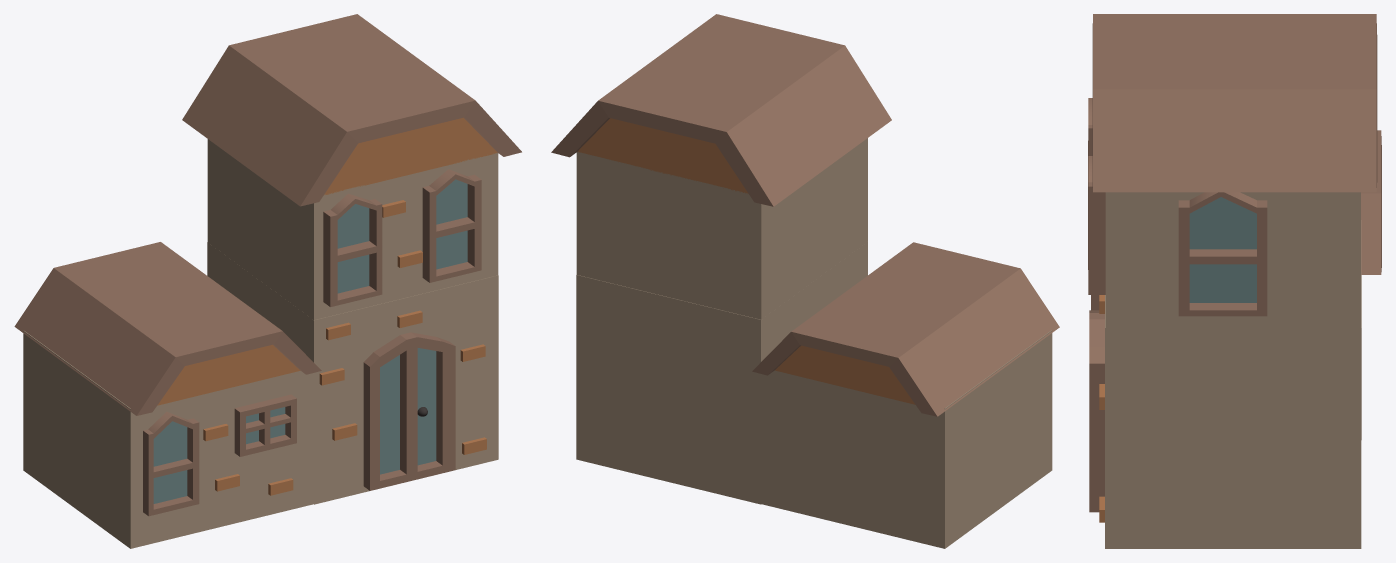
The model's file is building#3.fbx.
3 renders of one model, left to right at view 1: azimuth 30°, elevation 25°; view 2: azimuth 150°, elevation 25°; view 3: azimuth 270°, elevation 25°, orthographic. The views are drawn at different scales.
Visible parts, largest first — view 1: pCube49, pCube2, pCube48, pCube47, pCube4; view 2: pCube49, pCube48, pCube2, pCube47, pCube4; view 3: pCube48, pCube2, pCube47, pCube4.
Boxes of the visible parts, x1=… form: pCube49: x1=23, y1=330, x2=314, y2=548; pCube2: x1=182, y1=14, x2=521, y2=206; pCube48: x1=207, y1=242, x2=498, y2=504; pCube47: x1=207, y1=139, x2=498, y2=319; pCube4: x1=14, y1=242, x2=321, y2=415; pCube49: x1=761, y1=330, x2=1052, y2=548; pCube48: x1=576, y1=242, x2=867, y2=504; pCube2: x1=551, y1=14, x2=891, y2=206; pCube47: x1=576, y1=138, x2=867, y2=319; pCube4: x1=752, y1=242, x2=1059, y2=416; pCube48: x1=1089, y1=220, x2=1361, y2=548; pCube2: x1=1092, y1=14, x2=1377, y2=192; pCube47: x1=1088, y1=98, x2=1360, y2=327; pCube4: x1=1088, y1=130, x2=1381, y2=274.
Size of the model in its own units: 16.9 by 15.39 by 9.25.
